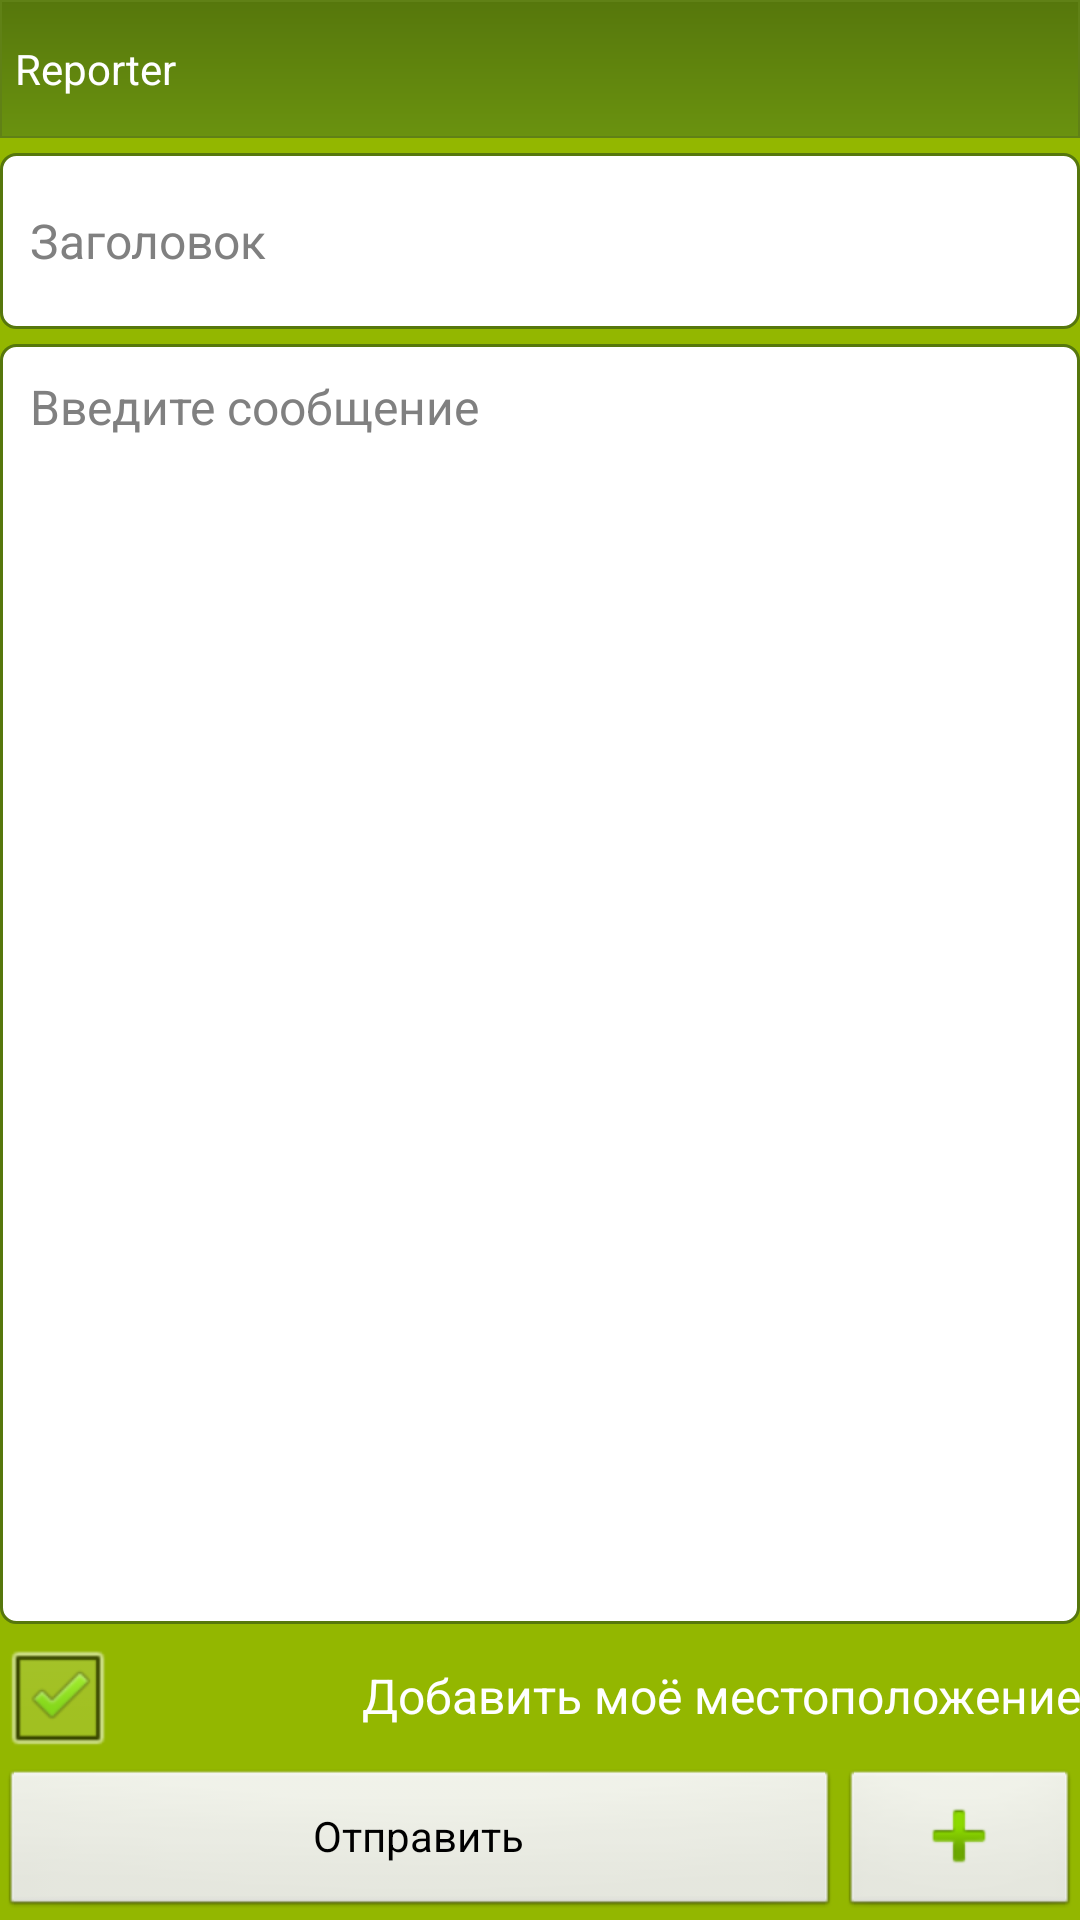

Screen size 1080px x 1920px. Icon name, then its box in pixels as (x1, y1, x2, y2):
Добавить изображения: (849, 1771, 1070, 1905)
